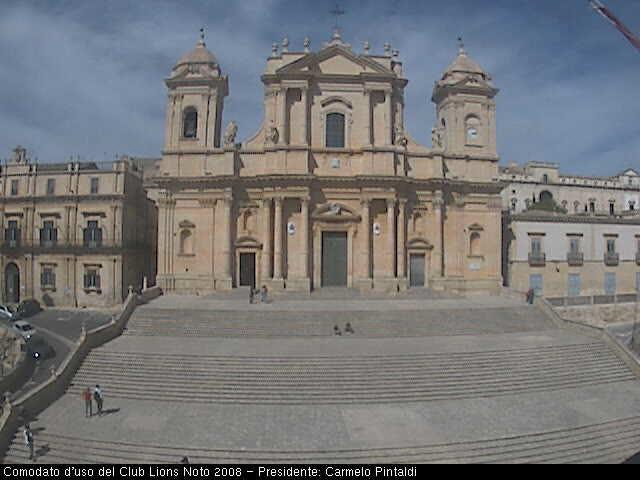person: (22, 423, 38, 462), (94, 385, 105, 417), (82, 386, 93, 417), (248, 286, 258, 307), (260, 285, 269, 306), (525, 287, 533, 305), (333, 324, 341, 338), (345, 322, 353, 336), (177, 455, 188, 464)
